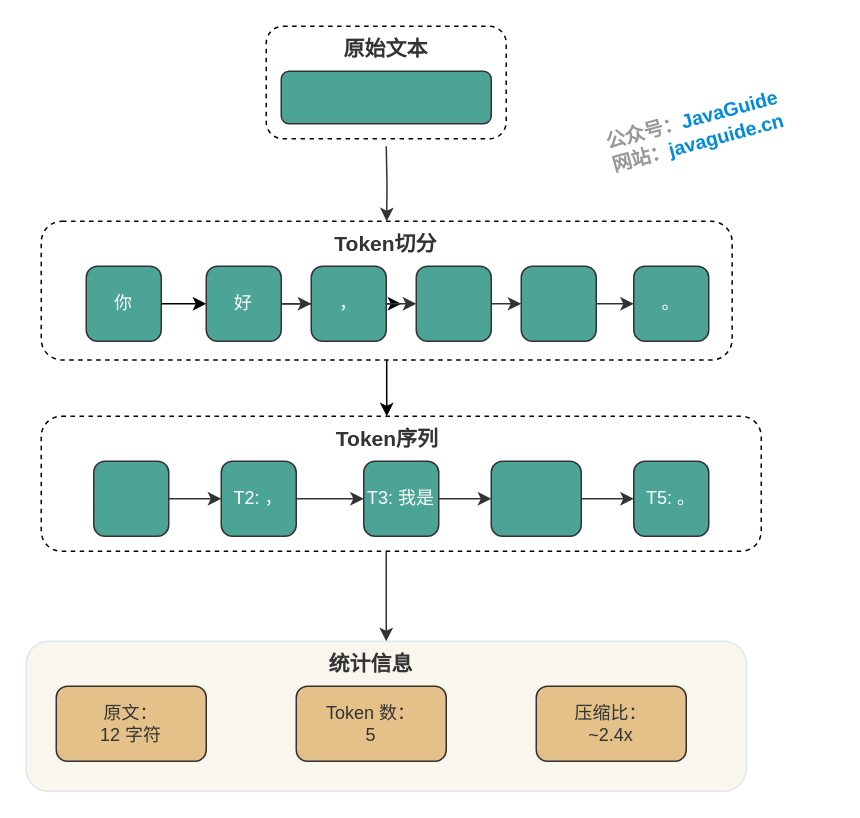
The diagram is 860 pixels wide and 818 high, and some of its shapes have lost their labels. The centre of each missing label's shape, as x and y in pixels:
"Guide" belongs at point 558,303.
"T1: 你好" belongs at point 130,498.
"T4: Guide" belongs at point 535,498.
"你好，我是 Guide。" belongs at point 385,97.
"我是" belongs at point 453,303.
